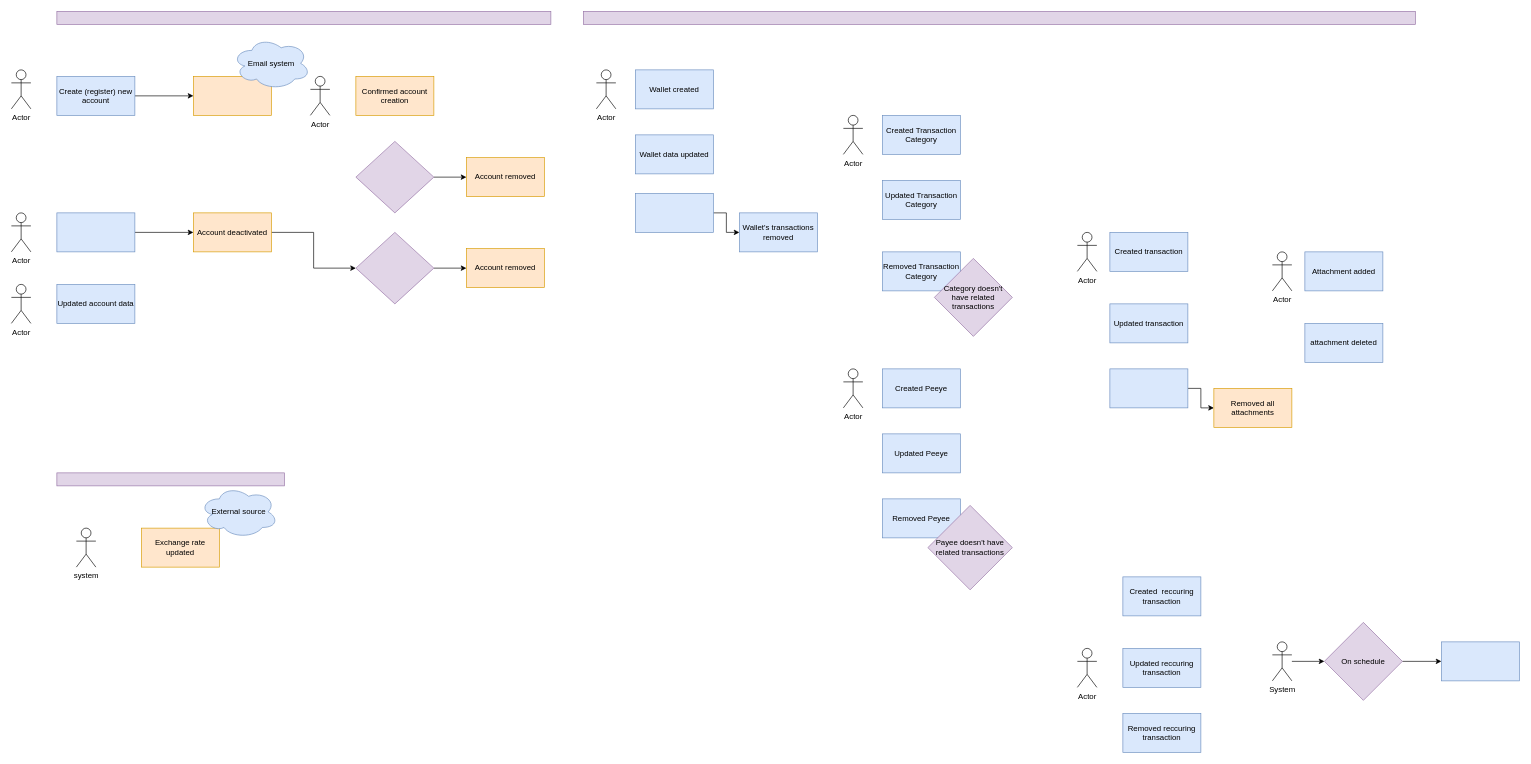
Some shapes in this 1531 by 764 pixel diagram are drawn without their labels. Each missing label, with the centre of its shape:
Account: the point at 303,17
Account not confirmed within X days: the point at 394,177
After 30 days: the point at 394,268
Create transaction: the point at 1480,661
Currencies: the point at 170,479
Remove account: the point at 95,232
Removed transaction: the point at 1148,388
Sent confirmation email: the point at 232,95
Wallet / transactions: the point at 999,17
Wallet removed: the point at 674,212
